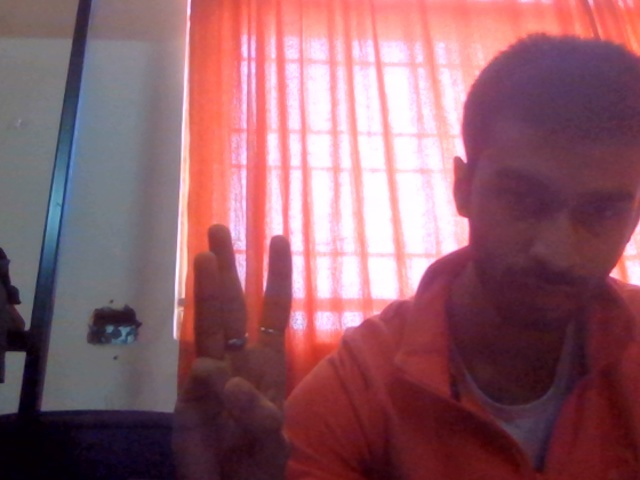W: (149, 205, 322, 480)
